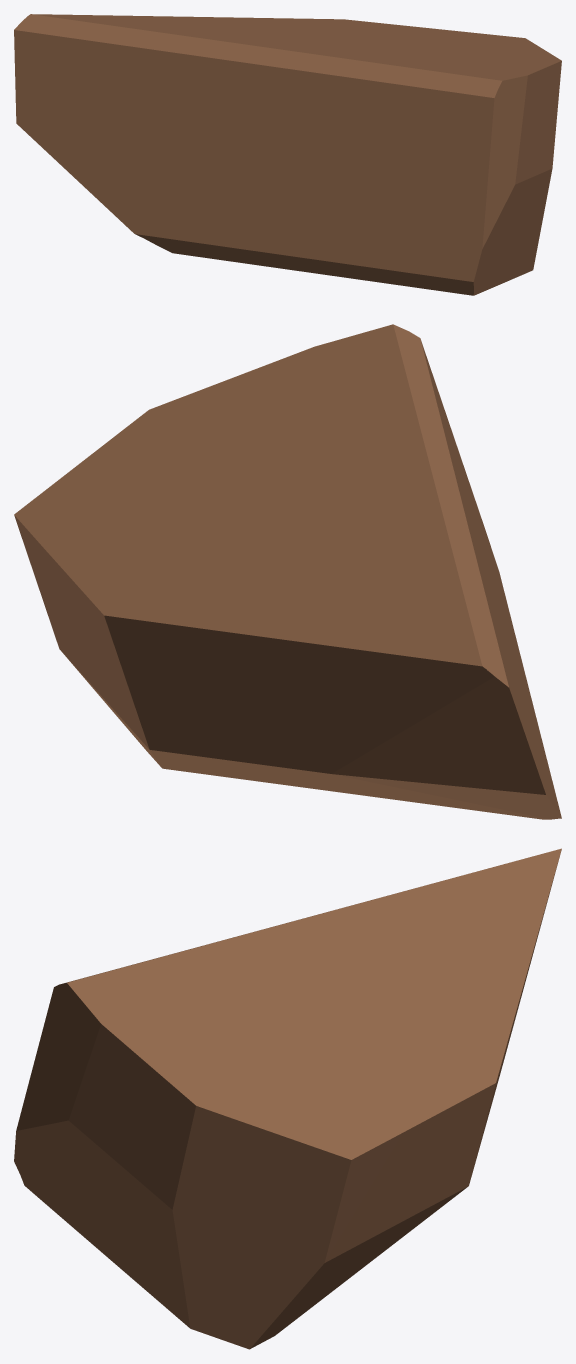
File: WoodCellCube_003_cell_056.fbx
3 views of the same model, one above another, from view 1: azimuth 30°, elevation 25°; view 2: azimuth 150°, elevation 25°; view 3: azimuth 270°, elevation 25° (orthographic). The views are drawn at different scales.
Parts seen in each view (by area): view 1: WoodCellCube_003_cell_056; view 2: WoodCellCube_003_cell_056; view 3: WoodCellCube_003_cell_056.
Part boxes in pixels (box(x1,y1,x2,y2)): WoodCellCube_003_cell_056: box(14, 14, 561, 295); WoodCellCube_003_cell_056: box(14, 324, 561, 819); WoodCellCube_003_cell_056: box(14, 848, 561, 1349).
Bounding box in the file's own units: 0.9401 × 0.5909 × 1.04.
Materials: 1 (1 with a texture image).
